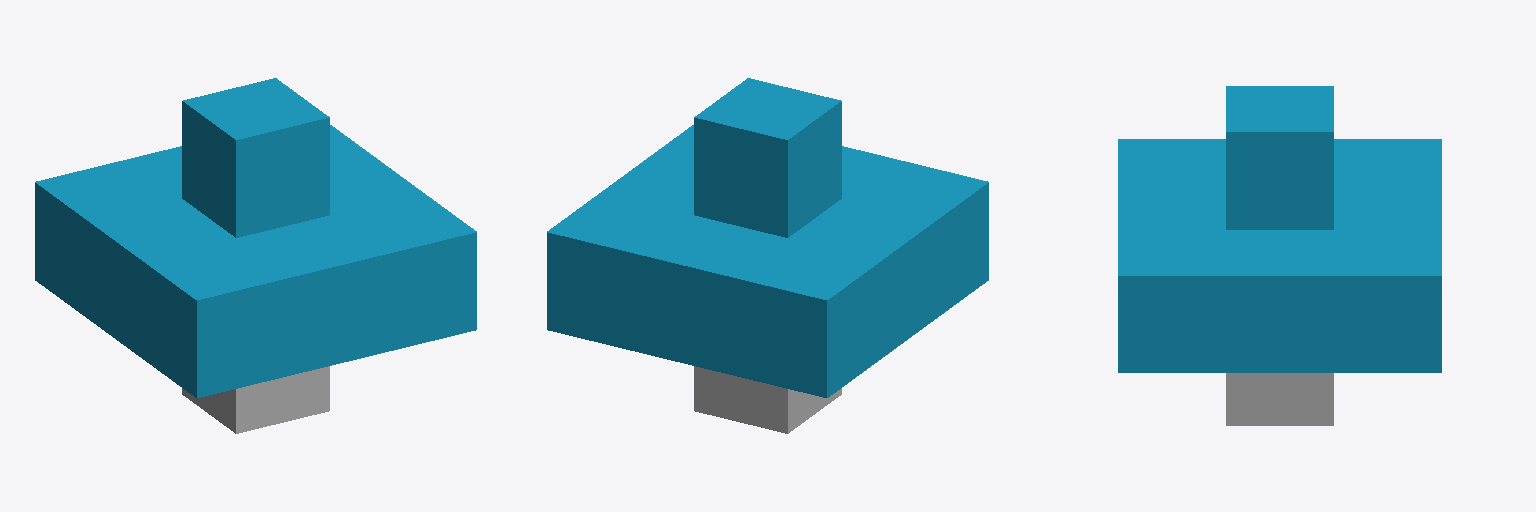
3 renders of one model, left to right at view 1: azimuth 30°, elevation 25°; view 2: azimuth 150°, elevation 25°; view 3: azimuth 270°, elevation 25°, orthographic.
Bounding box in the file's own units: 3 × 3 × 3.
1 materials, 1 textured.